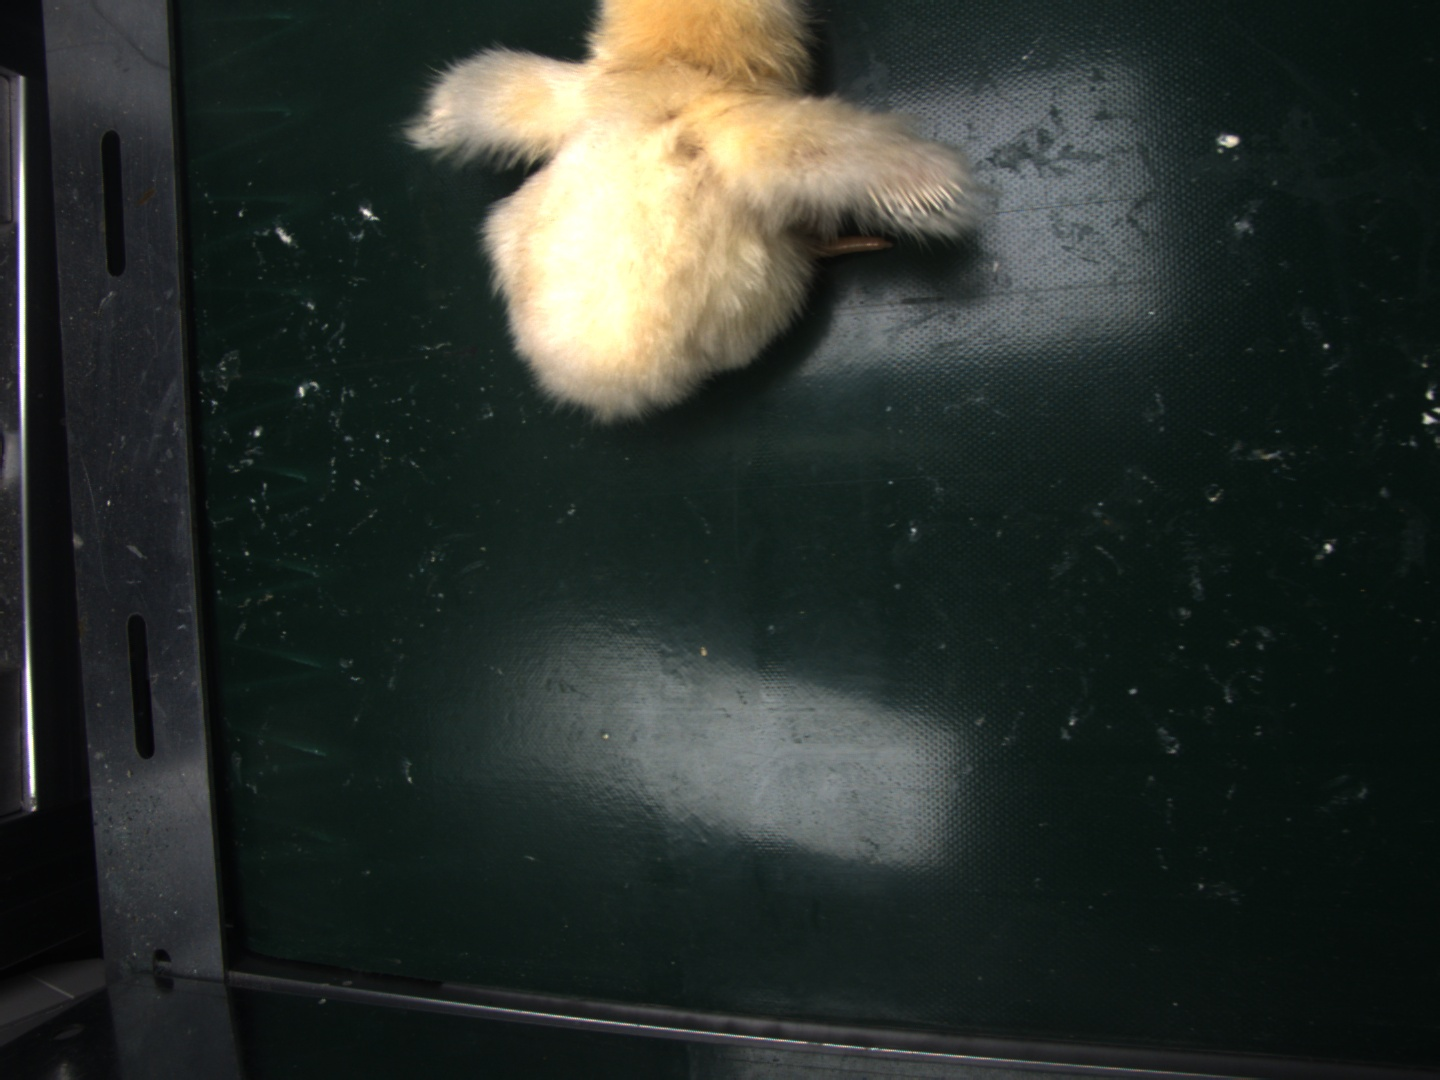male: (876, 179, 960, 217)
